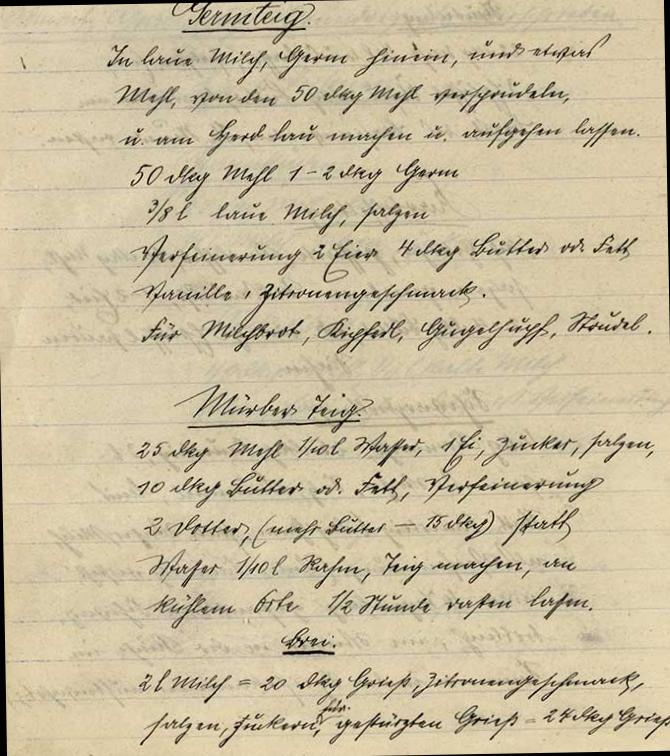text: (131, 690, 670, 752), (128, 224, 643, 288), (130, 420, 658, 482), (104, 28, 614, 89), (138, 304, 652, 360), (116, 108, 643, 161), (135, 658, 648, 712), (141, 578, 595, 634), (141, 501, 582, 557), (132, 540, 579, 594), (135, 462, 606, 512), (113, 74, 570, 124), (129, 270, 488, 330), (127, 153, 462, 205), (143, 188, 433, 240), (169, 378, 376, 437), (166, 0, 316, 49), (278, 624, 338, 658)
